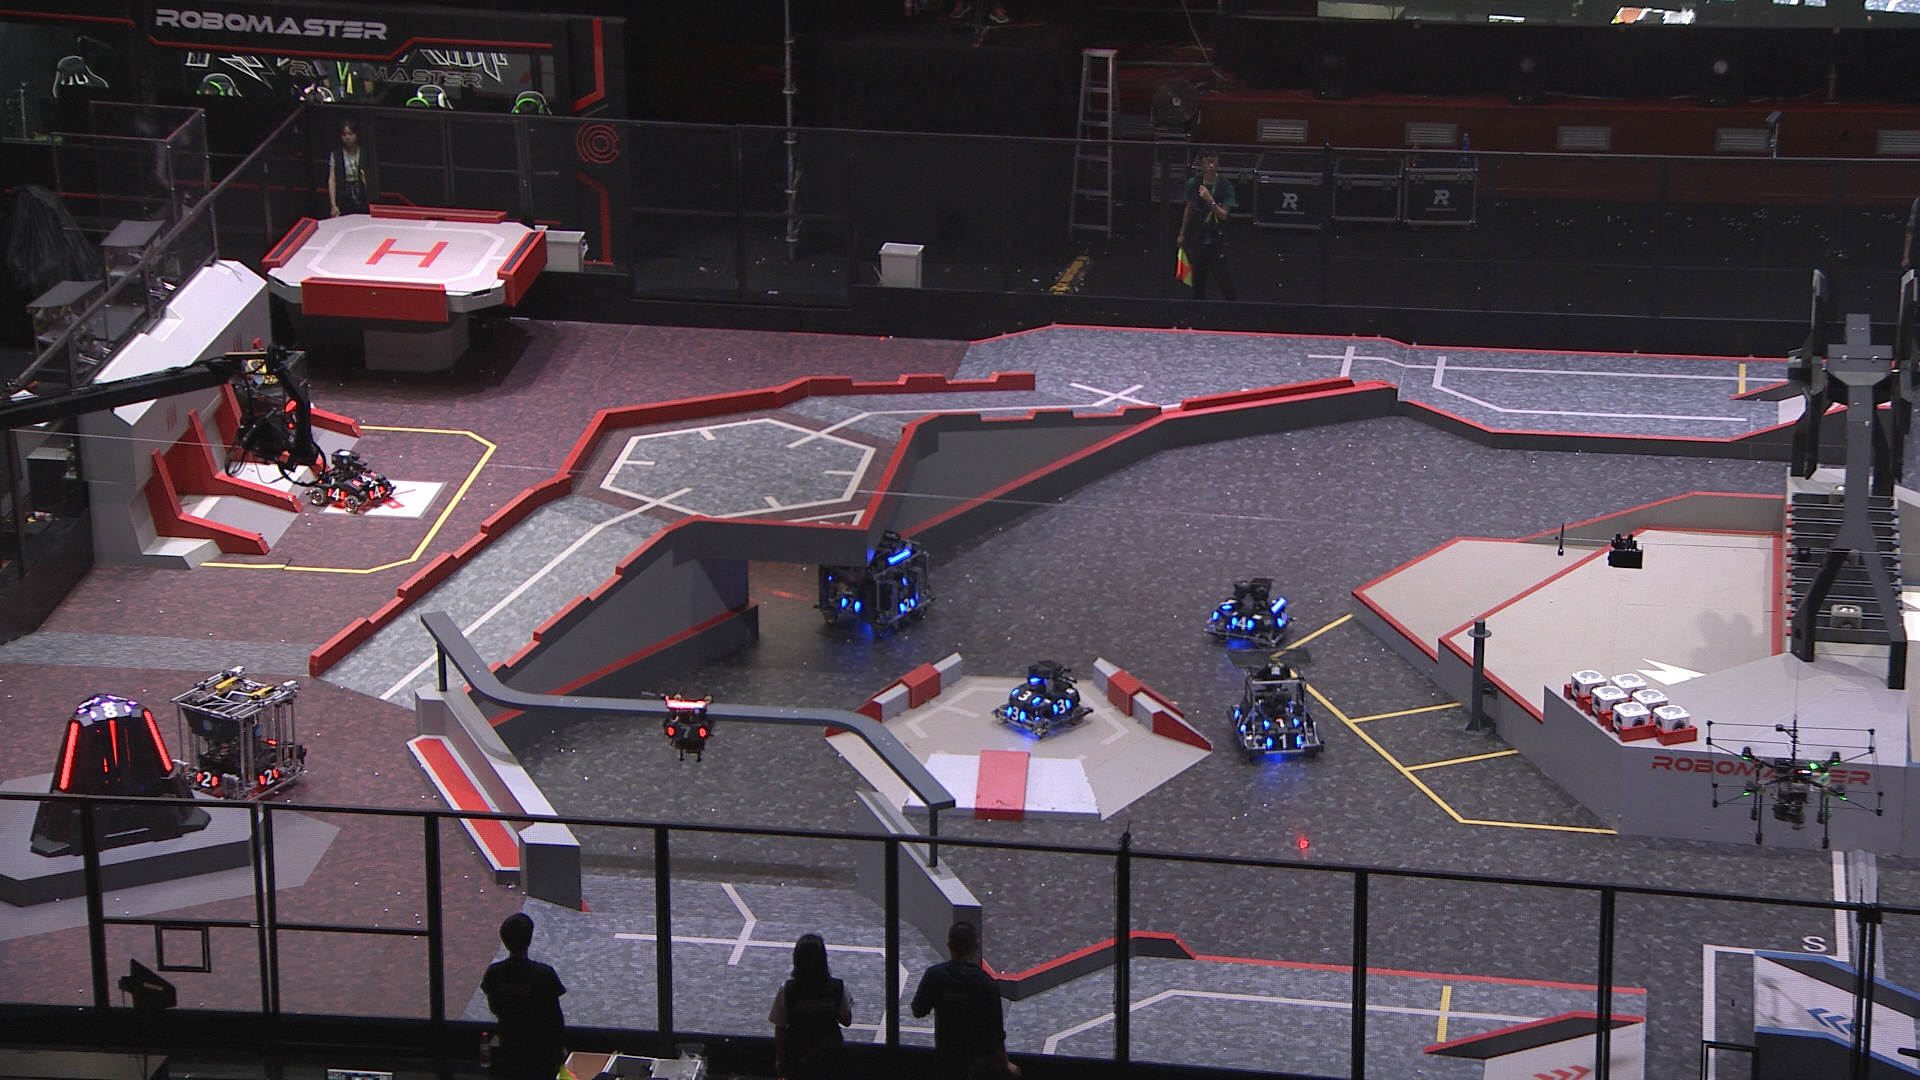armor: (141, 711, 173, 771), (55, 719, 80, 790), (1011, 684, 1040, 708), (665, 723, 707, 737), (1267, 733, 1302, 750), (193, 770, 220, 789), (351, 472, 378, 491), (109, 717, 120, 765), (257, 767, 281, 787), (323, 487, 348, 505), (837, 595, 861, 613), (1229, 616, 1255, 632), (895, 595, 916, 615), (1050, 698, 1072, 716), (1004, 707, 1026, 725), (1263, 716, 1302, 727), (1233, 709, 1247, 735), (1276, 608, 1288, 632), (1220, 597, 1237, 613), (287, 410, 299, 429), (371, 484, 384, 500)
base: (25, 692, 214, 855)
car: (171, 666, 309, 804), (814, 520, 928, 644), (225, 347, 320, 448), (1228, 665, 1324, 757), (988, 661, 1096, 738), (1204, 568, 1295, 647), (309, 451, 394, 516)
ignore: (88, 700, 131, 721), (76, 695, 100, 712)
watcher: (659, 690, 713, 764)
